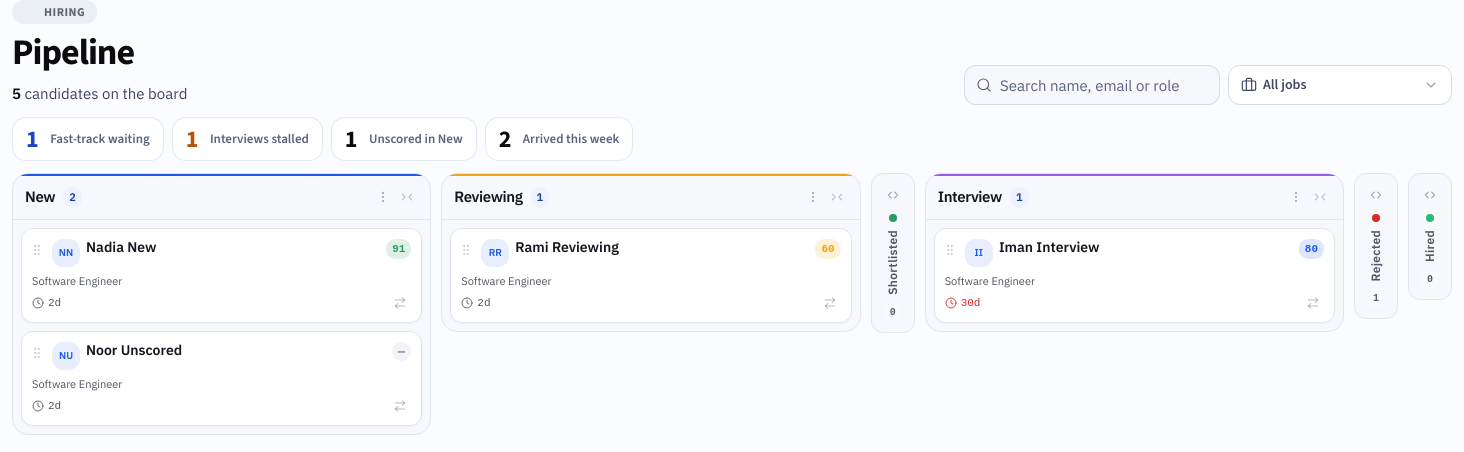
Test: PipelineBoard › searches name, email and role together
The width and height of the screenshot is (1464, 452).
Type "rami software" into the field named "Search the board" at (1092, 85), box x1=964 y1=65 x2=1220 y2=105
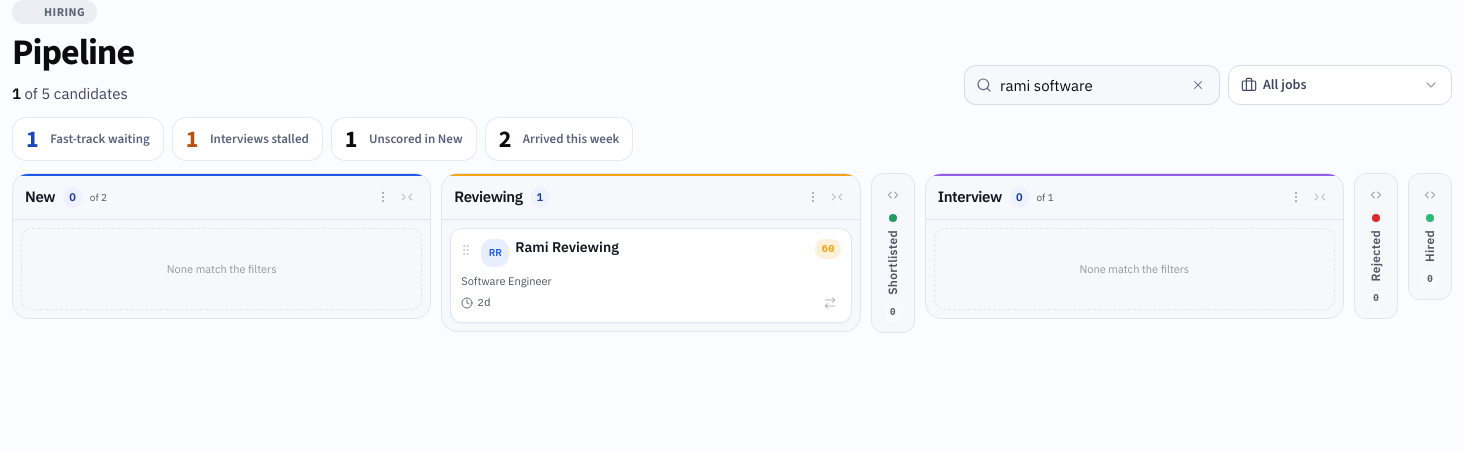
Check: the link "Rami Reviewing" is shown, box x1=515 y1=238 x2=619 y2=256
Check: the link "Nadia New" is gone
